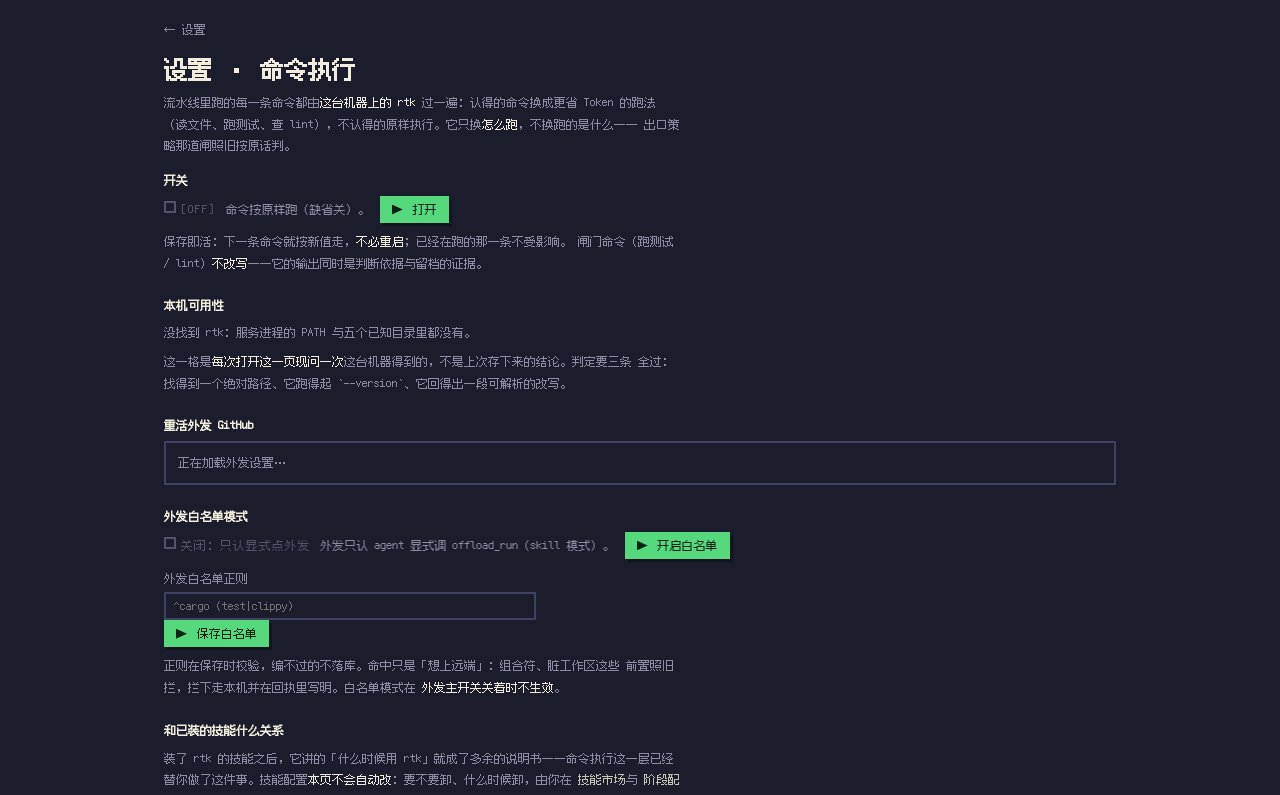
Test: 命令执行页（决策 297 / 票 05） › 白名单卡:编不过的正则后端 400,错误原样摆出来不静默
This screenshot has width=1280, height=795.
Expected: the heading "设置 · 命令执行" is shown, [164,55,356,84]
Type "(unclosed" into the field labelled "外发白名单正则" at (350, 606), box [164,592,536,620]
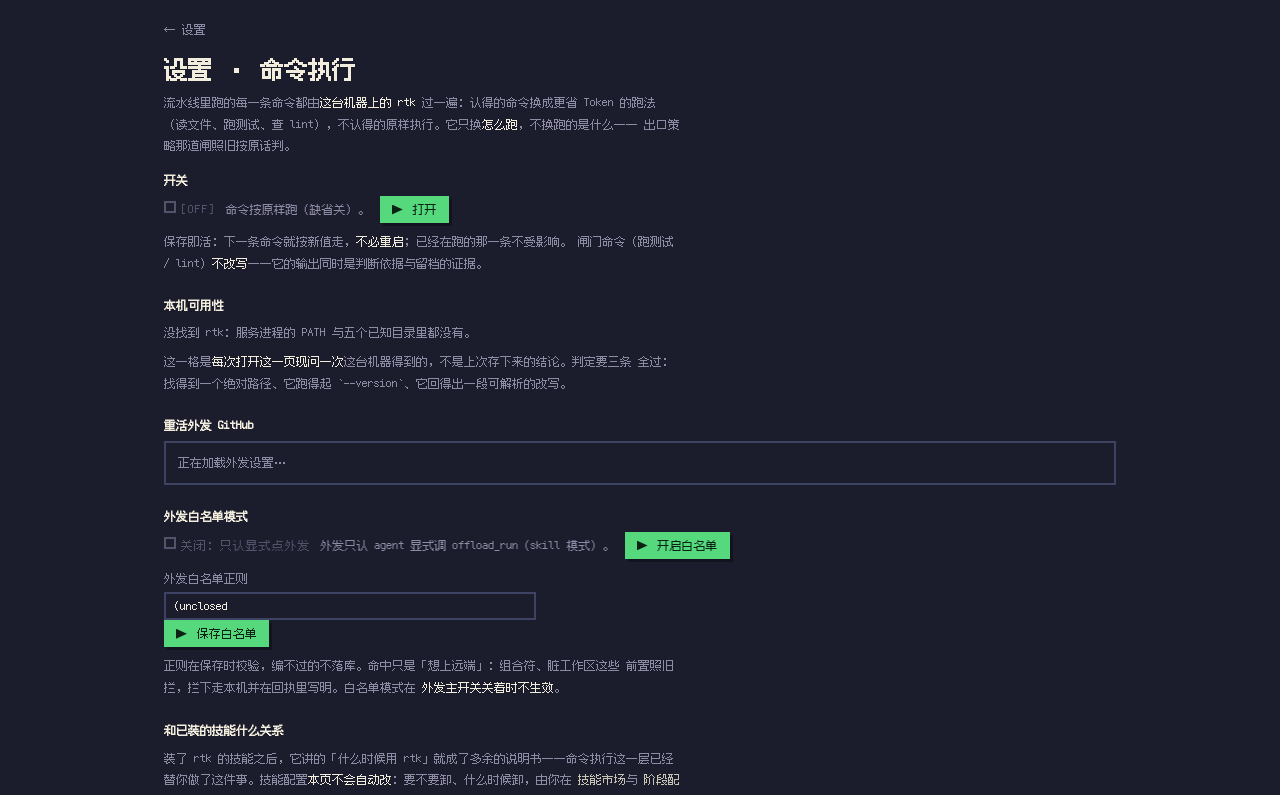
Click the button "开启白名单" at (677, 546), box [625,532,730,559]
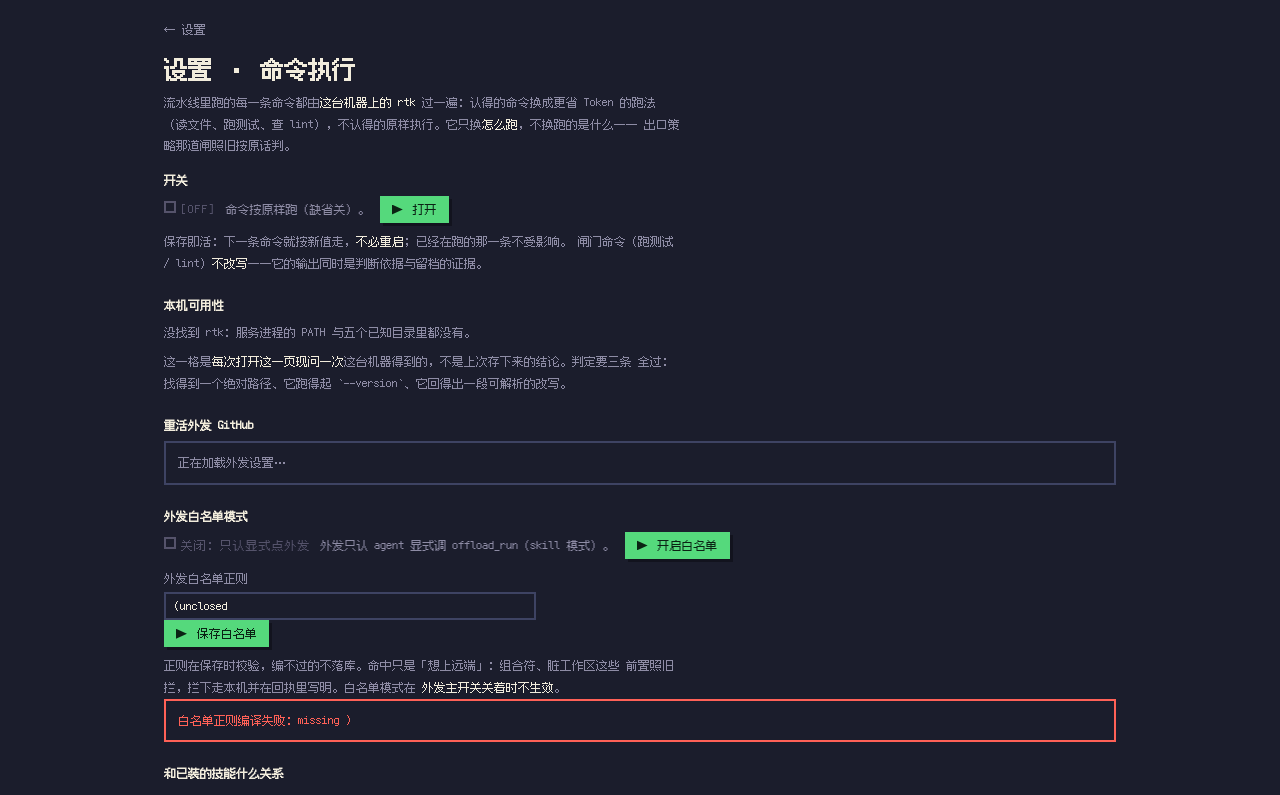
Result: the message shows "编译失败" at [178,714,352,726]
